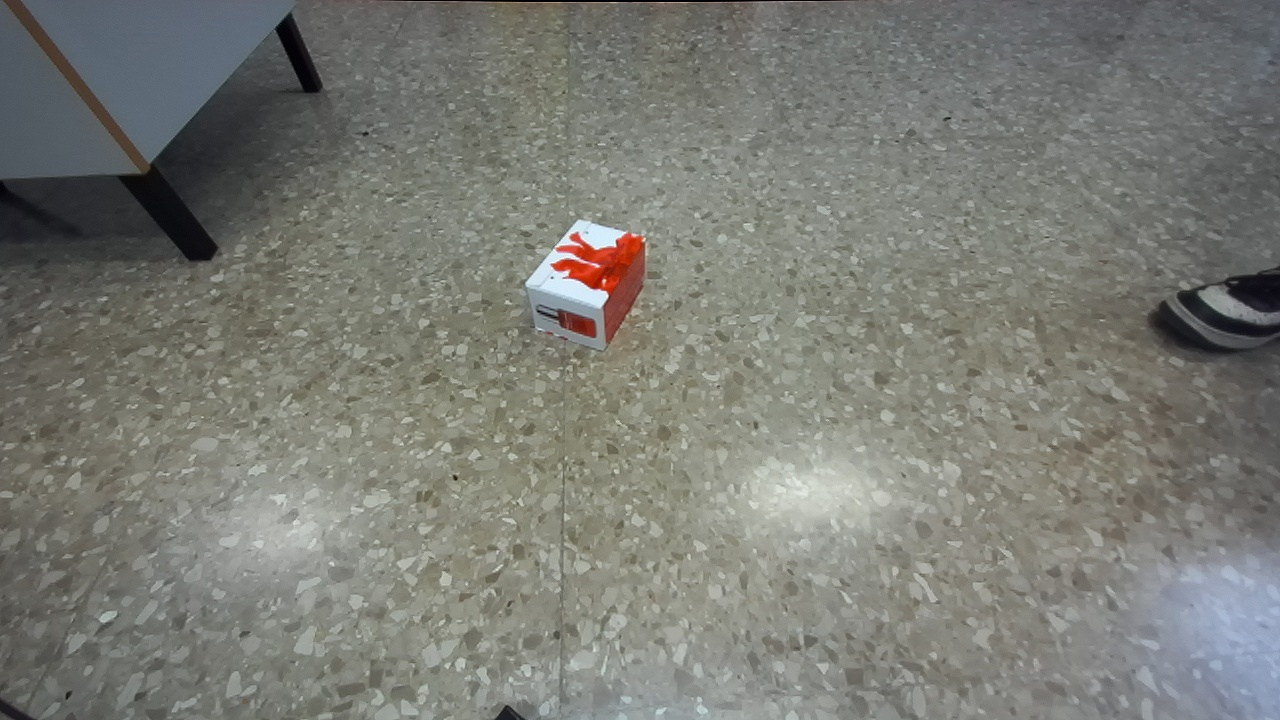caja_potencia: (525, 220, 645, 349)
